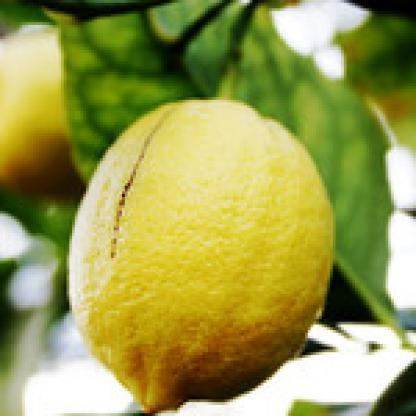lemon: (67, 98, 336, 414), (0, 23, 88, 198)
